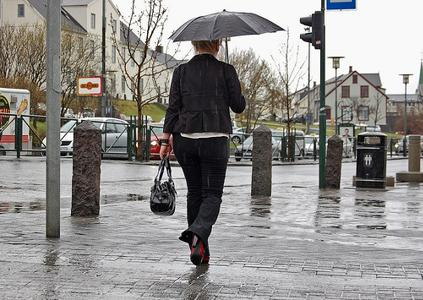person: (161, 39, 248, 265)
